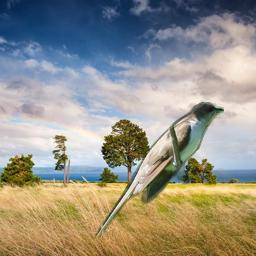Cuckoo: (94, 102, 224, 240)
